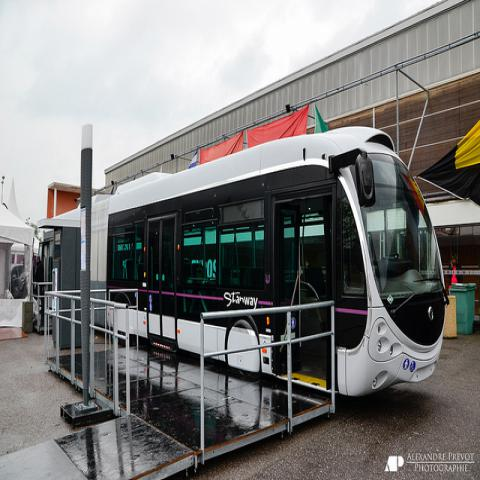bus: (92, 124, 453, 398)
